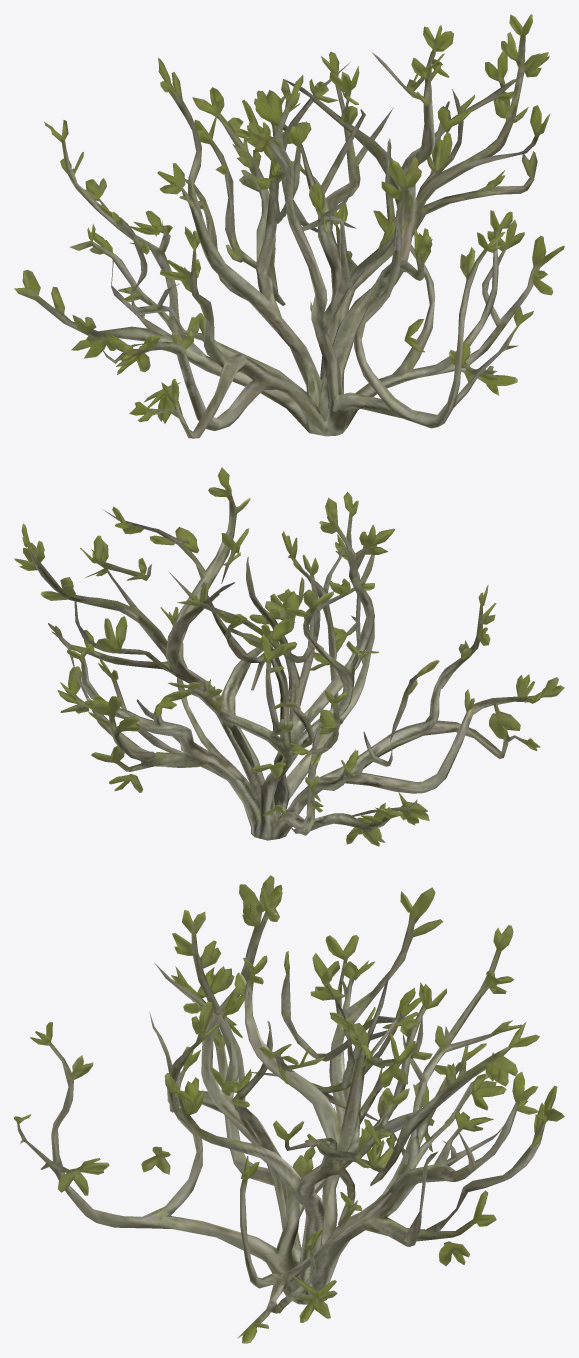
File: desert-scrub.glb
The picture shows the model from 3 angles, top to bottom: view 1: azimuth 30°, elevation 25°; view 2: azimuth 150°, elevation 25°; view 3: azimuth 270°, elevation 25°; orthographic projection. The views are drawn at different scales.
Size of the model in its own units: 1.9 by 1.31 by 1.7.
Materials: 1 (1 with a texture image).
